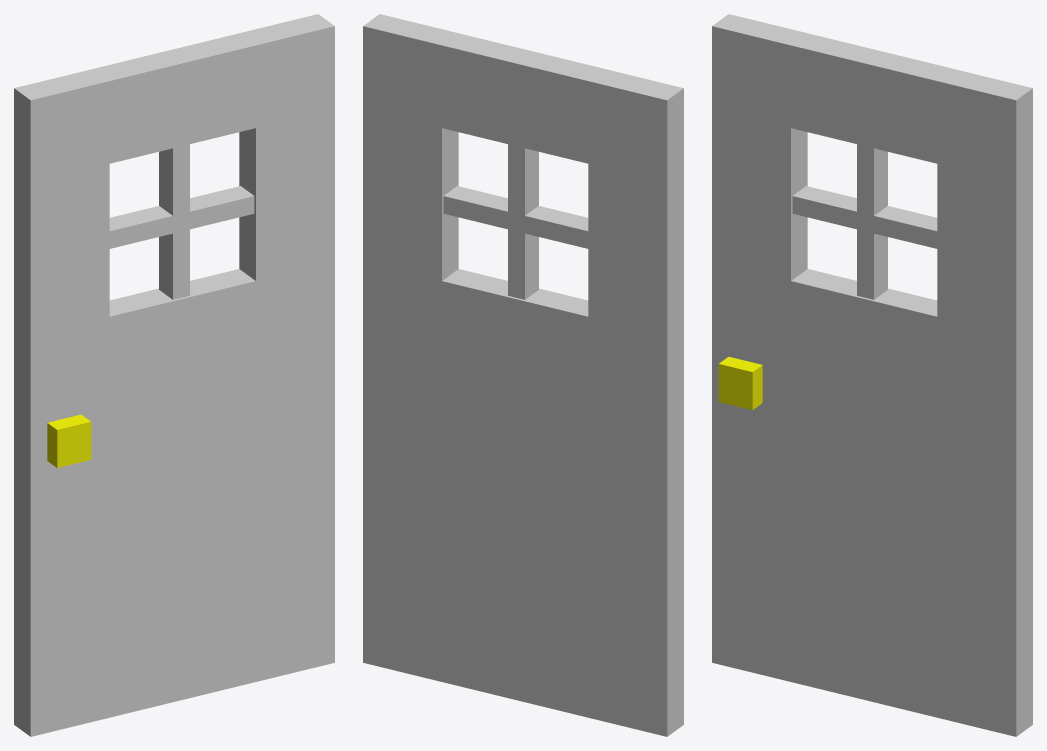
File: Door_Closed.glb
The picture shows the model from 3 angles, left to right: view 1: azimuth 30°, elevation 25°; view 2: azimuth 150°, elevation 25°; view 3: azimuth 330°, elevation 25°; orthographic projection.
Parts seen in each view (by area): view 1: Door_Closed; view 2: Door_Closed; view 3: Door_Closed.
Boxes of the visible parts, x1=… form: Door_Closed: x1=14, y1=14, x2=334, y2=736; Door_Closed: x1=363, y1=14, x2=683, y2=736; Door_Closed: x1=712, y1=14, x2=1032, y2=736.
Size of the model in its own units: 2 by 4 by 0.3023.
Materials: 2 (1 with a texture image).
